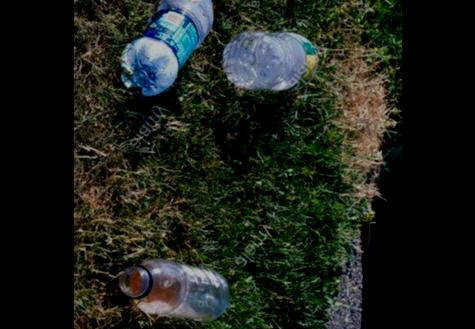bottle: (84, 244, 237, 329), (101, 0, 220, 99), (218, 21, 342, 96)
